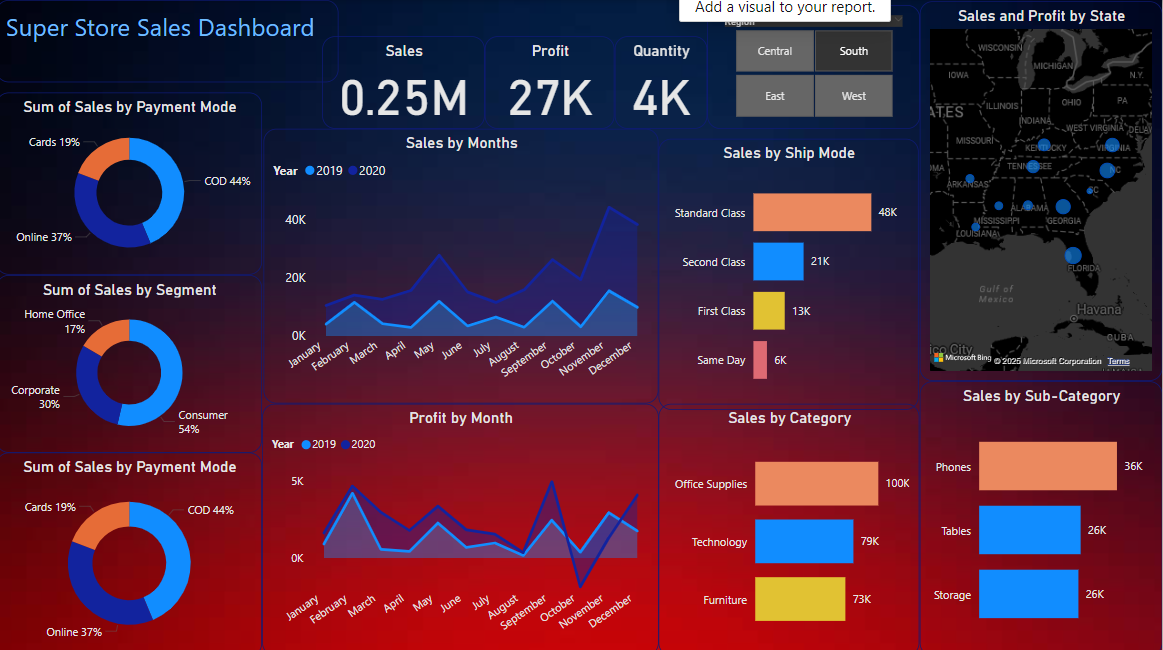

What the dashboard file says about the page in this screenshot:
{"tool":"powerbi","page":{"name":"Page 1","canvas":[1280,720],"ordinal":0},"visuals":[{"type":"clusteredBarChart","title":"Sales by Category","fields":{"Category":["SuperStore_Sales_Dataset.Category"],"Y":["Sum(SuperStore_Sales_Dataset.Sales)"]},"box":[727.3,443.2,286.8,277.2],"z":0},{"type":"clusteredBarChart","title":"Sales by Sub-Category","fields":{"Category":["SuperStore_Sales_Dataset.Sub-Category"],"Y":["Sum(SuperStore_Sales_Dataset.Sales)"]},"box":[1014.1,418.5,266.2,301.9],"z":1000},{"type":"clusteredBarChart","title":"Sales by Ship Mode","fields":{"Category":["SuperStore_Sales_Dataset.Ship Mode"],"Y":["Sum(SuperStore_Sales_Dataset.Sales)"]},"box":[727.3,152.3,285.4,297.8],"z":2000},{"type":"stackedAreaChart","title":" Sales by Months","fields":{"Category":["SuperStore_Sales_Dataset.Order Date.Variation.Date Hierarchy.Month","SuperStore_Sales_Dataset.Order Date.Variation.Date Hierarchy.Day"],"Y":["Sum(SuperStore_Sales_Dataset.Sales)"],"Series":["SuperStore_Sales_Dataset.Order Date.Variation.Date Hierarchy.Year"]},"box":[293.7,141.3,433.6,301.9],"z":3000},{"type":"stackedAreaChart","title":" Profit by Month","fields":{"Category":["SuperStore_Sales_Dataset.Order Date.Variation.Date Hierarchy.Month","SuperStore_Sales_Dataset.Order Date.Variation.Date Hierarchy.Day"],"Series":["SuperStore_Sales_Dataset.Order Date.Variation.Date Hierarchy.Year"],"Y":["Sum(SuperStore_Sales_Dataset.Profit)"]},"box":[292.3,443.2,435,277.2],"z":4000},{"type":"map","title":" Sales and Profit by State","fields":{"Category":["SuperStore_Sales_Dataset.State"],"Size":["Sum(SuperStore_Sales_Dataset.Sales)"]},"box":[1014.1,1.4,266.2,417.2],"z":5000},{"type":"donutChart","fields":{"Category":["SuperStore_Sales_Dataset.Segment"],"Y":["Sum(SuperStore_Sales_Dataset.Sales)"]},"box":[0,301.9,292.3,194.9],"z":6000},{"type":"donutChart","fields":{"Y":["Sum(SuperStore_Sales_Dataset.Sales)"],"Category":["SuperStore_Sales_Dataset.Payment Mode"]},"box":[0,496.7,292.3,223.7],"z":7000},{"type":"slicer","fields":{"Values":["SuperStore_Sales_Dataset.Region"]},"box":[780.8,5.5,233.3,135.8],"z":8000},{"type":"textbox","box":[0,0,376,90.6],"z":9000},{"type":"donutChart","fields":{"Category":["SuperStore_Sales_Dataset.Payment Mode"],"Y":["Sum(SuperStore_Sales_Dataset.Sales)"]},"box":[0,101.5,292.3,200.3],"z":10000},{"type":"card","title":"Sales","fields":{"Values":["Sum(SuperStore_Sales_Dataset.Sales)"]},"box":[358.1,39.8,178.4,101.5],"z":11000},{"type":"card","title":"Profit","fields":{"Values":["Sum(SuperStore_Sales_Dataset.Profit)"]},"box":[536.5,39.8,142.7,101.5],"z":12000},{"type":"card","title":"Quantity","fields":{"Values":["Sum(SuperStore_Sales_Dataset.Quantity)"]},"box":[679.2,39.8,101.5,101.5],"z":13000}]}

Visuals, with their boxes in screenshot pixels (x1, y1, x2, y2), scaled from the page's 1280x720 canvas onto the 1163x650 screenshot:
"Sales by Category" clusteredBarChart: 661 400 921 649
"Sales by Sub-Category" clusteredBarChart: 921 378 1162 649
"Sales by Ship Mode" clusteredBarChart: 661 137 920 406
" Sales by Months" stackedAreaChart: 267 128 661 400
" Profit by Month" stackedAreaChart: 266 400 661 649
" Sales and Profit by State" map: 921 1 1162 378
donutChart - SuperStore_Sales_Dataset.Segment x Sum(SuperStore_Sales_Dataset.Sales): 0 273 266 448
donutChart - Sum(SuperStore_Sales_Dataset.Sales) x SuperStore_Sales_Dataset.Payment Mode: 0 448 266 649
slicer - SuperStore_Sales_Dataset.Region: 709 5 921 128
textbox: 0 0 342 82
donutChart - SuperStore_Sales_Dataset.Payment Mode x Sum(SuperStore_Sales_Dataset.Sales): 0 92 266 272
"Sales" card: 325 36 487 128
"Profit" card: 487 36 617 128
"Quantity" card: 617 36 709 128
